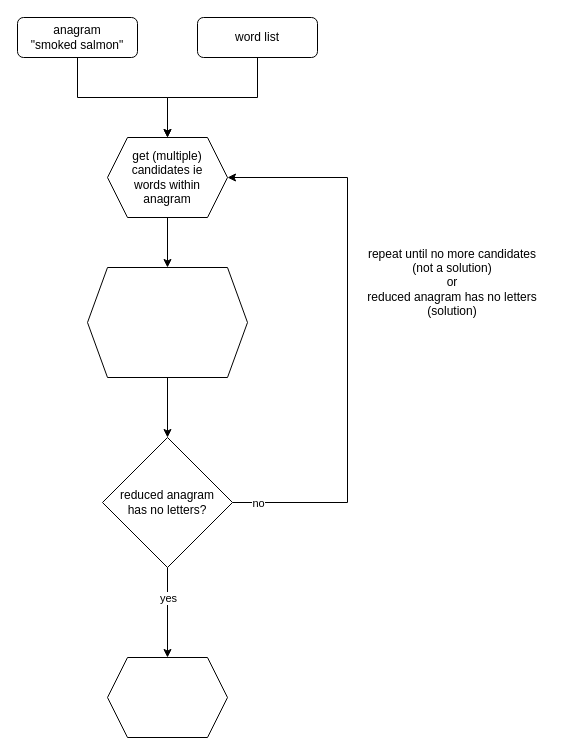
This 575x755 diagram has some shape labels left out. The centre of each missing label's shape, as x and y in pixels:
(for each candidate) remove candidate from anagram to get reduced anagram: pixel 167 322
save solution: pixel 167 697
